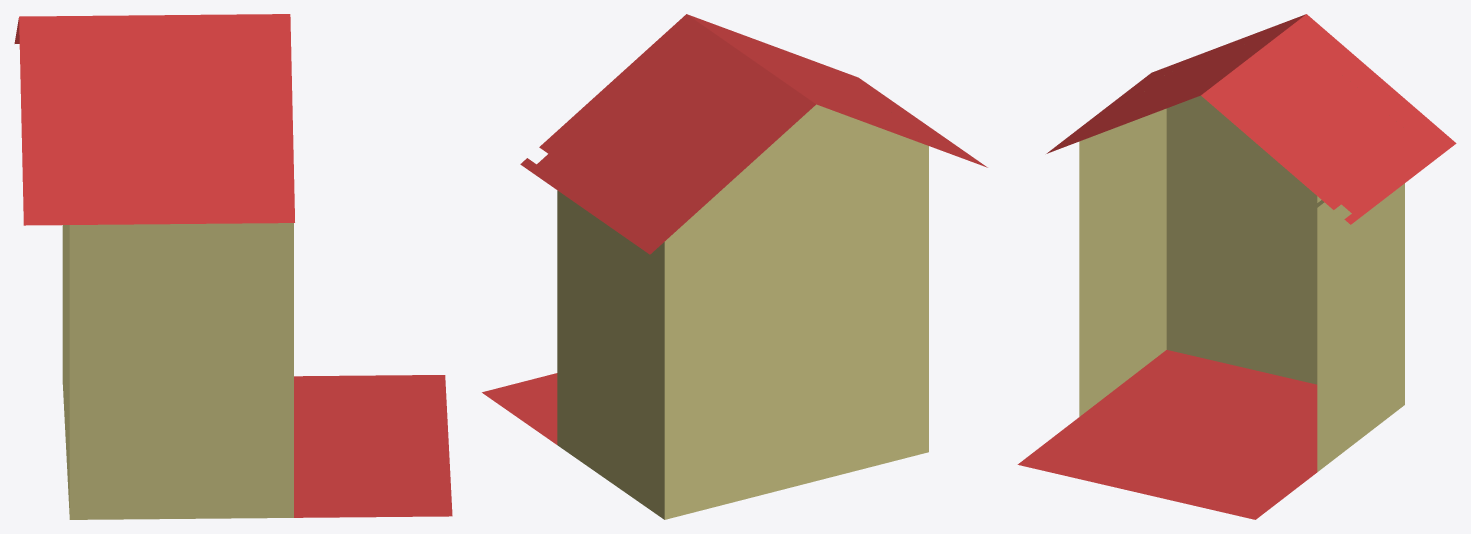
3 renders of one model, left to right at view 1: azimuth 30°, elevation 25°; view 2: azimuth 150°, elevation 25°; view 3: azimuth 270°, elevation 25°, orthographic. The views are drawn at different scales.
Size of the model in its own units: 8.94 by 8.64 by 7.59.
